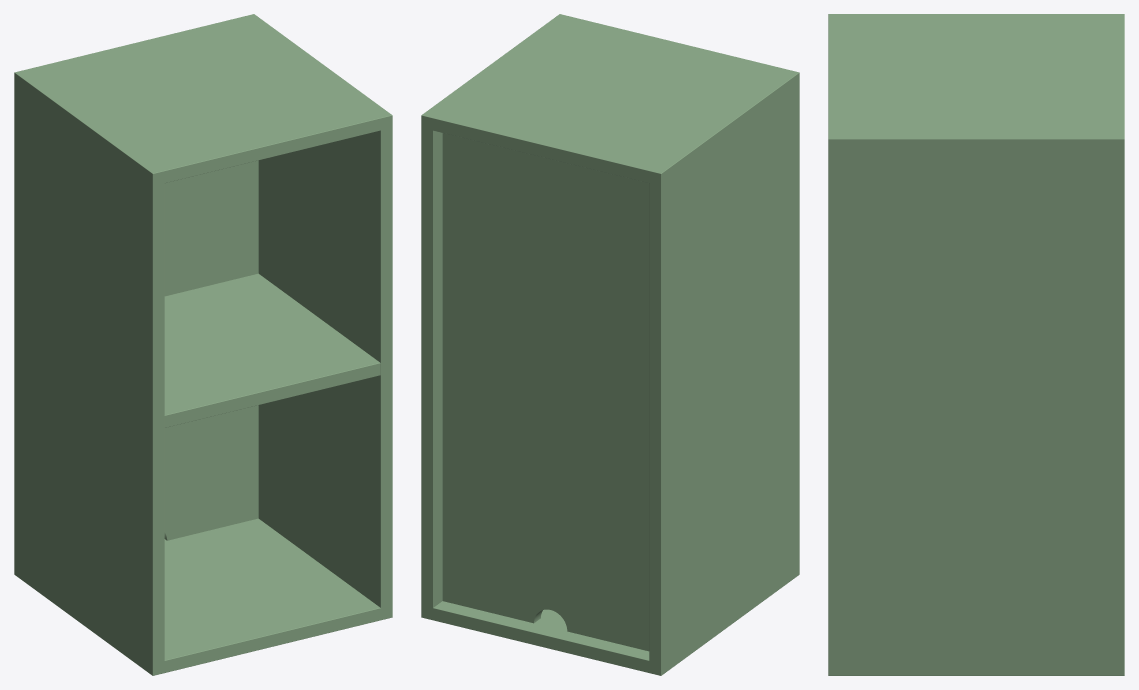
The model's file is MOD-1X2-S-B-AP-SA.glb.
3 views of the same model, side by side, from view 1: azimuth 30°, elevation 25°; view 2: azimuth 150°, elevation 25°; view 3: azimuth 270°, elevation 25° (orthographic). The views are drawn at different scales.
Bounding box in the file's own units: 360 × 720 × 360.
